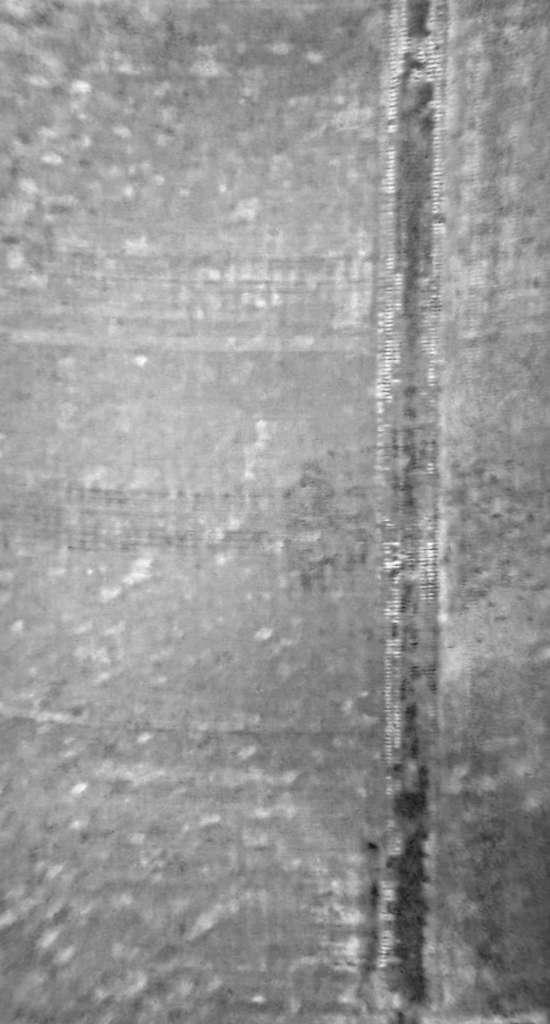splice: (373, 4, 443, 1024)
